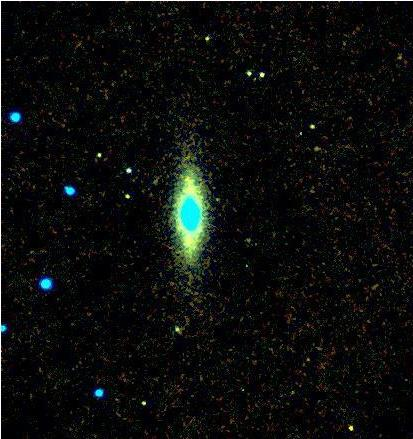star: (337, 413, 367, 439)
